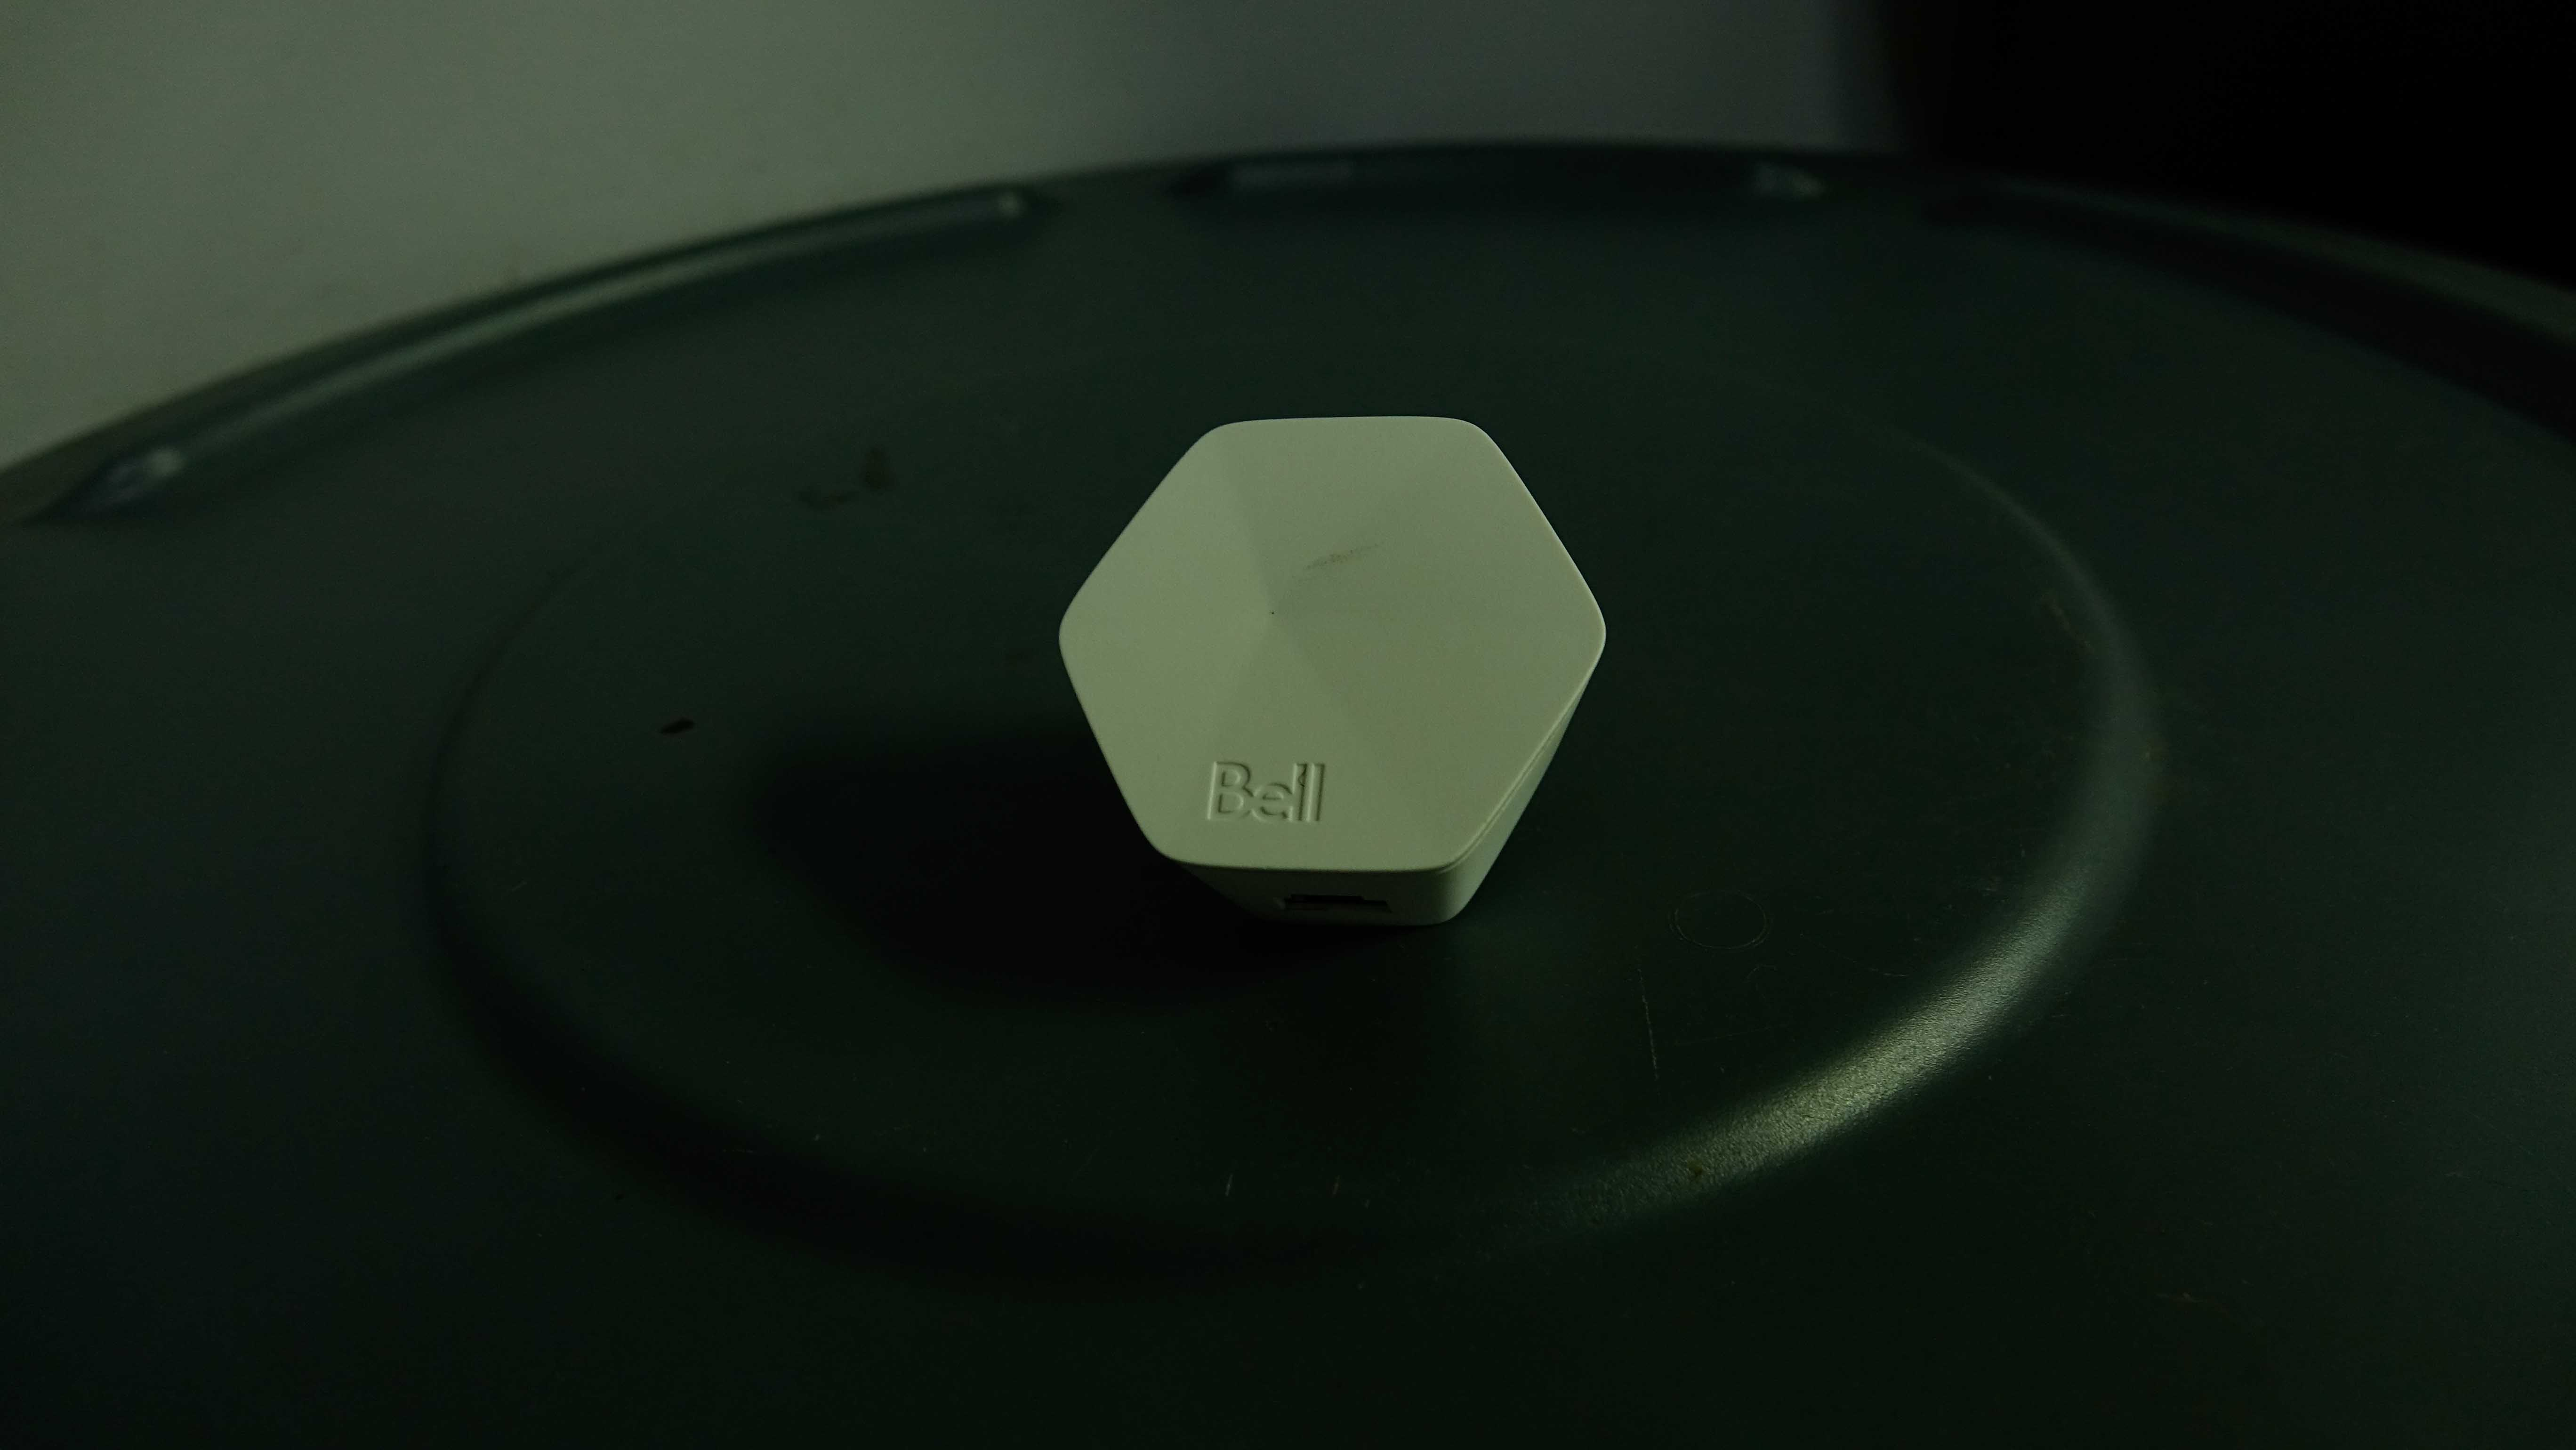pod: (1049, 400, 1621, 951)
